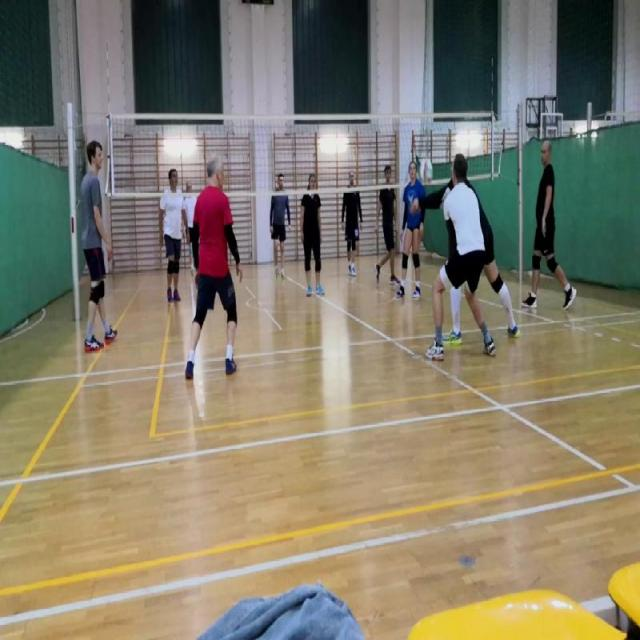volleyball: (419, 159, 432, 186)
